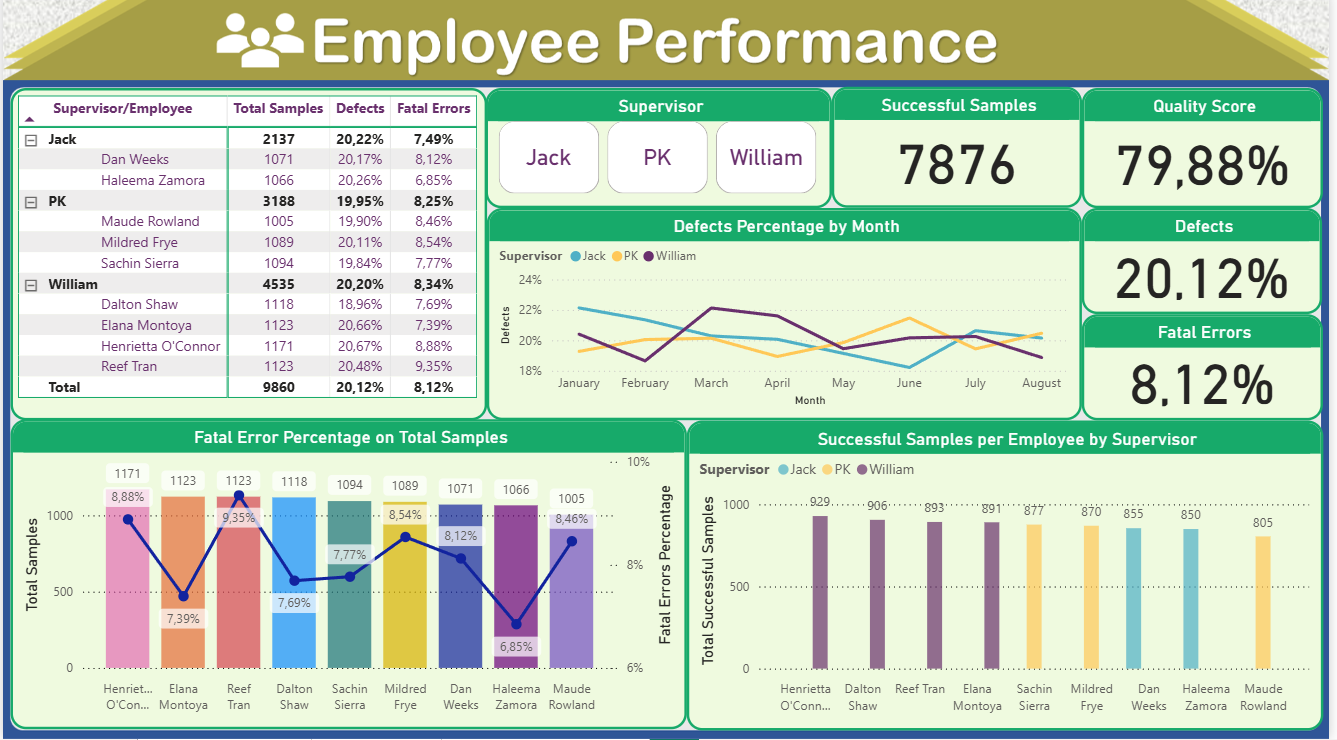

The page's visual inventory and layout, read from the dashboard file:
{"tool":"powerbi","page":{"name":"Employee Performance","canvas":[1280,720],"ordinal":2},"visuals":[{"type":"card","title":"Defects","fields":{"Values":["Table 1 (Quality Data).Defects%"]},"box":[1041.2,207.5,231.6,102.5],"z":0},{"type":"card","title":"Successful Samples","fields":{"Values":["Table 1 (Quality Data).Successful Samples"]},"box":[799.9,90.5,241.3,117],"z":1000},{"type":"card","title":"Fatal Errors","fields":{"Values":["Table 1 (Quality Data).Fatal Errors%"]},"box":[1041.2,310.1,232.8,102.5],"z":2000},{"type":"lineClusteredColumnComboChart","title":"Fatal Error Percentage on Total Samples","fields":{"Category":["Emp Master.EMP Name"],"Y":["Sum(Table 1 (Quality Data).Samples)"],"Y2":["Table 1 (Quality Data).Fatal Errors%"]},"box":[7.2,411.4,652.7,299.2],"z":3000},{"type":"clusteredColumnChart","title":"Successful Samples per Employee by Supervisor","fields":{"Category":["Emp Master.EMP Name"],"Series":["Emp Master.Supervisor"],"Y":["Table 1 (Quality Data).Successful Samples"]},"box":[659.9,412.6,614.1,299.2],"z":4000},{"type":"advancedSlicerVisual","fields":{"Values":["Emp Master.Supervisor"]},"box":[465.7,91.7,334.2,115.8],"z":5000},{"type":"card","title":"Quality Score","fields":{"Values":["Table 1 (Quality Data).Quality Score"]},"box":[1041.2,91.7,232.8,115.8],"z":6000},{"type":"pivotTable","fields":{"Rows":["Emp Master.Supervisor","Emp Master.EMP Name"],"Values":["Sum(Table 1 (Quality Data).Samples)","Table 1 (Quality Data).Defects%","Table 1 (Quality Data).Fatal Errors%"]},"box":[7.2,92,459.7,320.9],"z":7000},{"type":"lineChart","title":"Defects Percentage by Month","fields":{"Category":["Table 1 (Quality Data).Date.Variation.Date Hierarchy.Month"],"Series":["Emp Master.Supervisor"],"Y":["Table 1 (Quality Data).Defects%"]},"box":[466.9,207.5,574.3,205.1],"z":8000}]}

Visuals, with their boxes in screenshot pixels (x1, y1, x2, y2), scaled from the page's 1280x720 canvas onto the 1337x740 screenshot:
"Defects" card: (x1=1088, y1=213, x2=1329, y2=319)
"Successful Samples" card: (x1=836, y1=93, x2=1088, y2=213)
"Fatal Errors" card: (x1=1088, y1=319, x2=1331, y2=424)
"Fatal Error Percentage on Total Samples" lineClusteredColumnComboChart: (x1=8, y1=423, x2=689, y2=730)
"Successful Samples per Employee by Supervisor" clusteredColumnChart: (x1=689, y1=424, x2=1331, y2=732)
advancedSlicerVisual - Emp Master.Supervisor: (x1=486, y1=94, x2=836, y2=213)
"Quality Score" card: (x1=1088, y1=94, x2=1331, y2=213)
pivotTable - Emp Master.Supervisor x Emp Master.EMP Name: (x1=8, y1=95, x2=488, y2=424)
"Defects Percentage by Month" lineChart: (x1=488, y1=213, x2=1088, y2=424)
